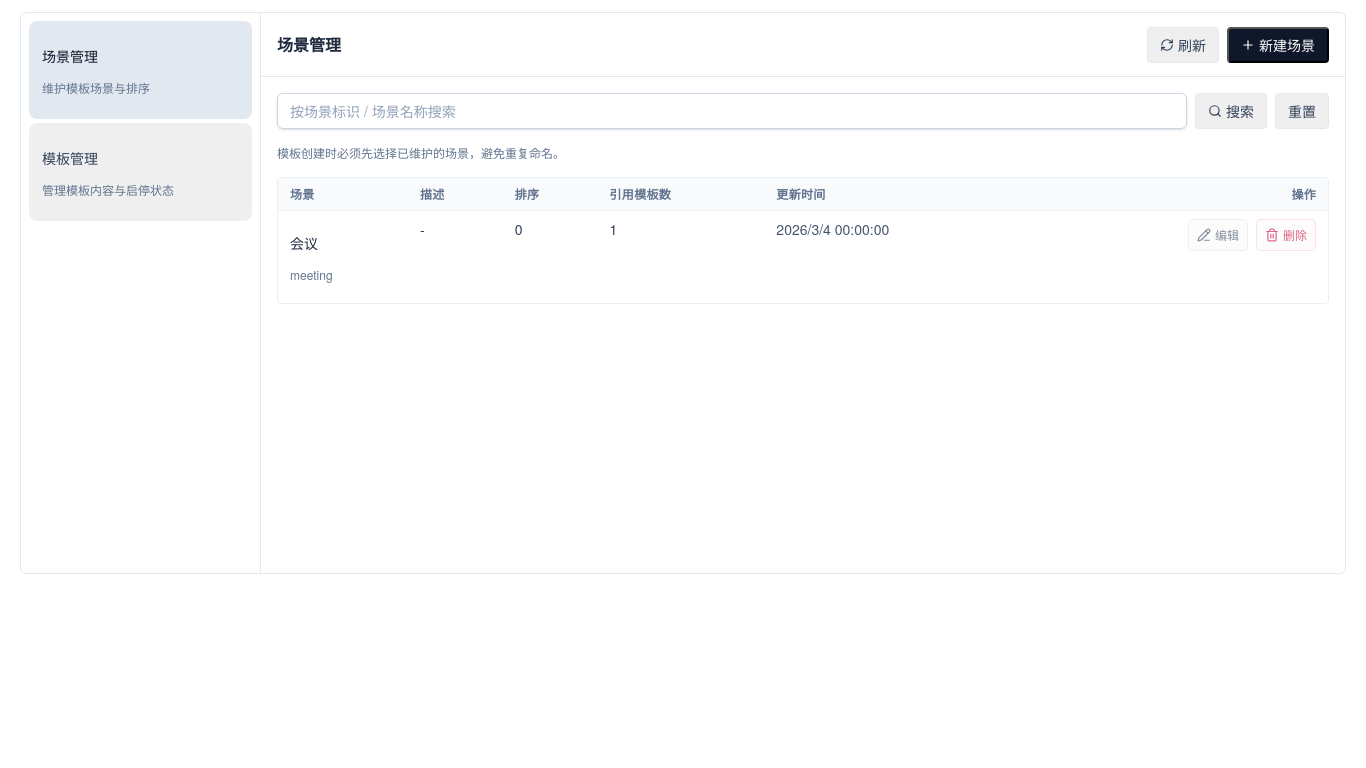
Test: AdminDocumentTemplatesPage › disables actions for builtin template
Click the button "模板管理 管理模板内容与启停状态" at (140, 172), box x1=29 y1=123 x2=252 y2=221
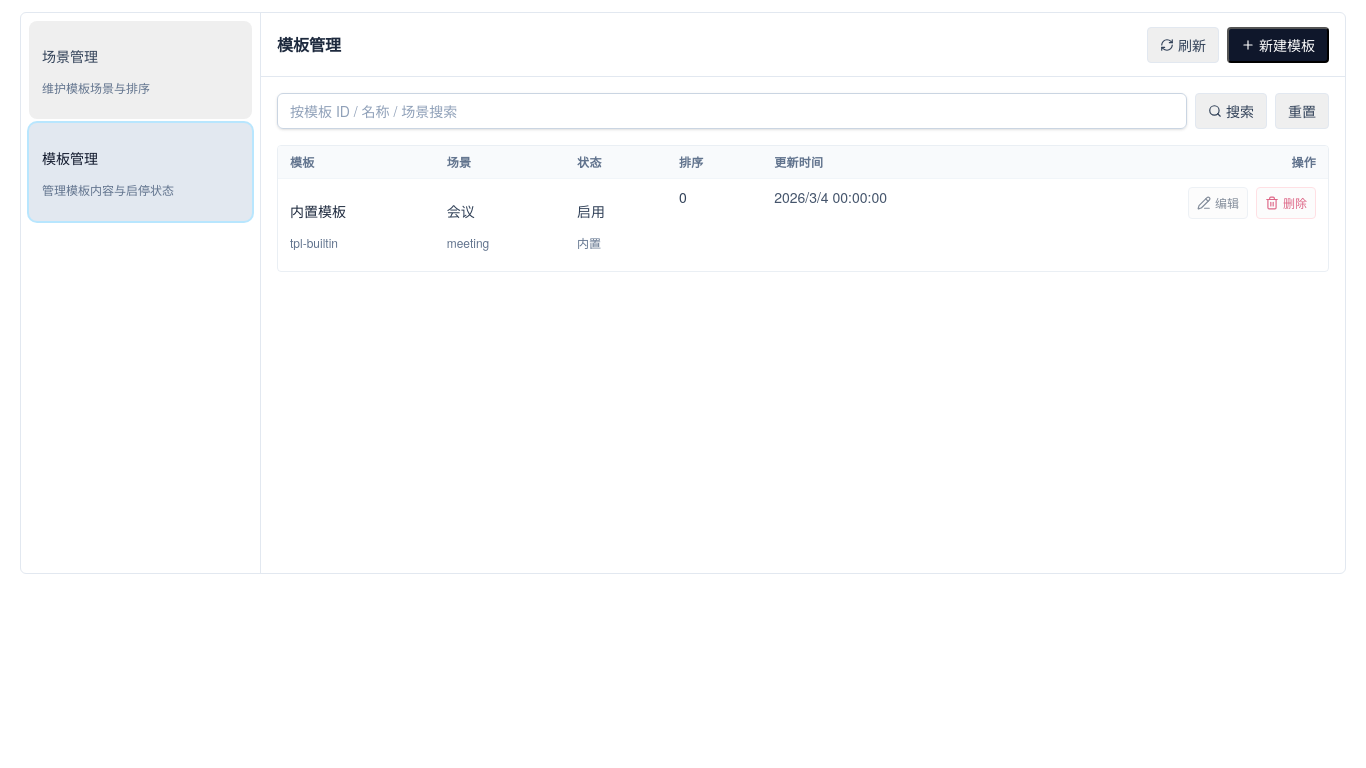
Expected: the button "编辑" is disabled, x1=1188 y1=187 x2=1248 y2=219
Now the text "内置模板" is shown, box x1=290 y1=201 x2=346 y2=221
